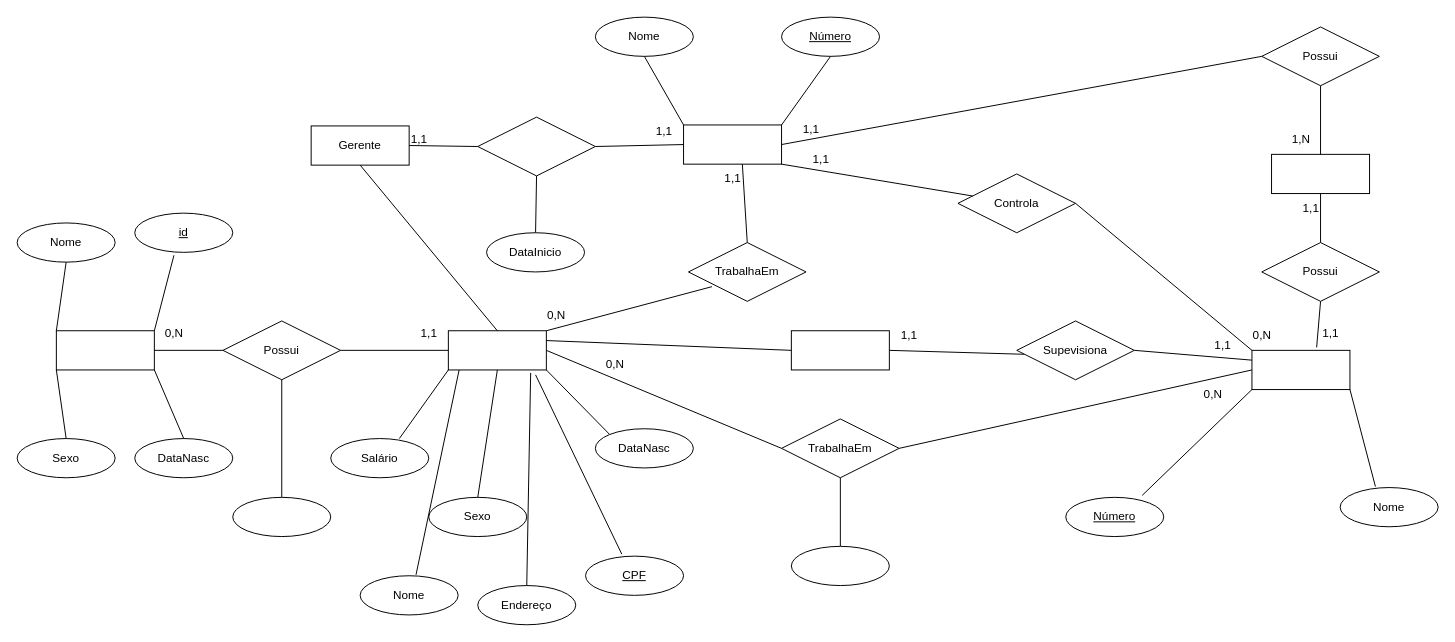
Some shapes in this 1455 by 642 pixel diagram are drawn without their labels. Each missing label, with the box of its shape:
Departamentos: (683, 124, 782, 164)
Dependentes: (55, 330, 154, 370)
Empregado: (447, 330, 546, 370)
Gerencia: (477, 116, 595, 176)
HorasTrabalhadas: (790, 545, 889, 586)
Localidade: (1271, 153, 1370, 194)
Parentesco: (232, 496, 331, 537)
Projetos: (1251, 349, 1350, 390)
Supervisor: (790, 330, 889, 370)
